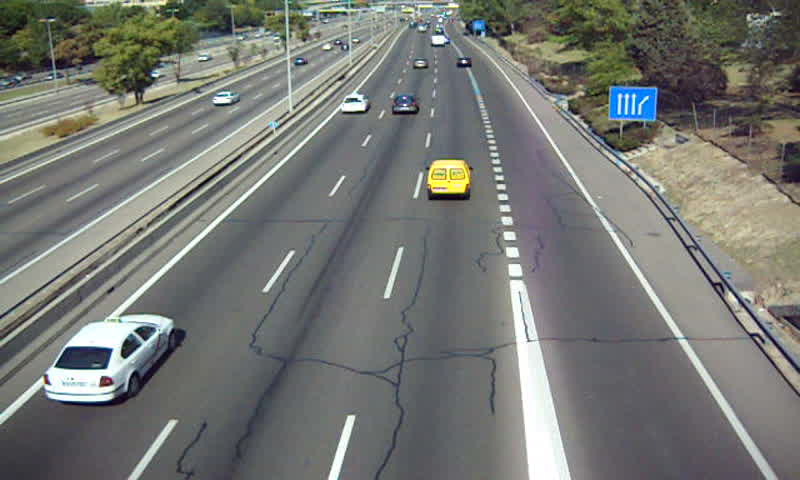car: (42, 314, 175, 404), (338, 93, 369, 113), (391, 94, 419, 116), (456, 55, 473, 69), (412, 58, 428, 71)
van: (427, 159, 471, 200)
